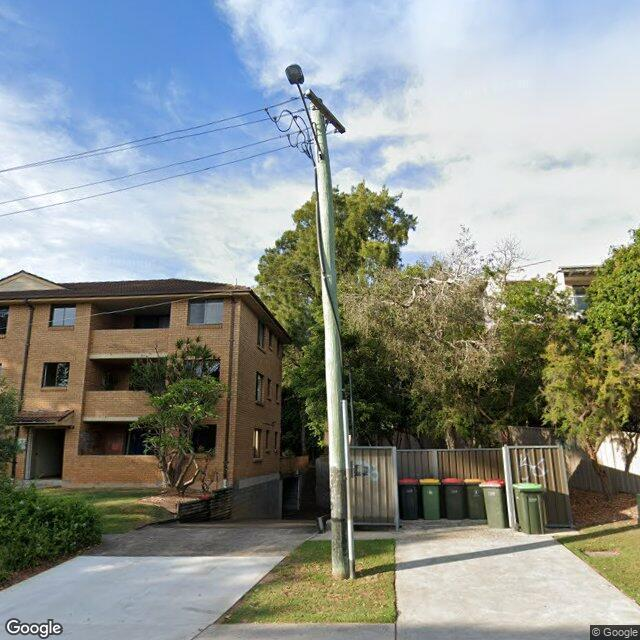crossarm: (302, 89, 347, 134)
streetlight: (286, 64, 324, 160)
timber-pole: (310, 101, 348, 580)
